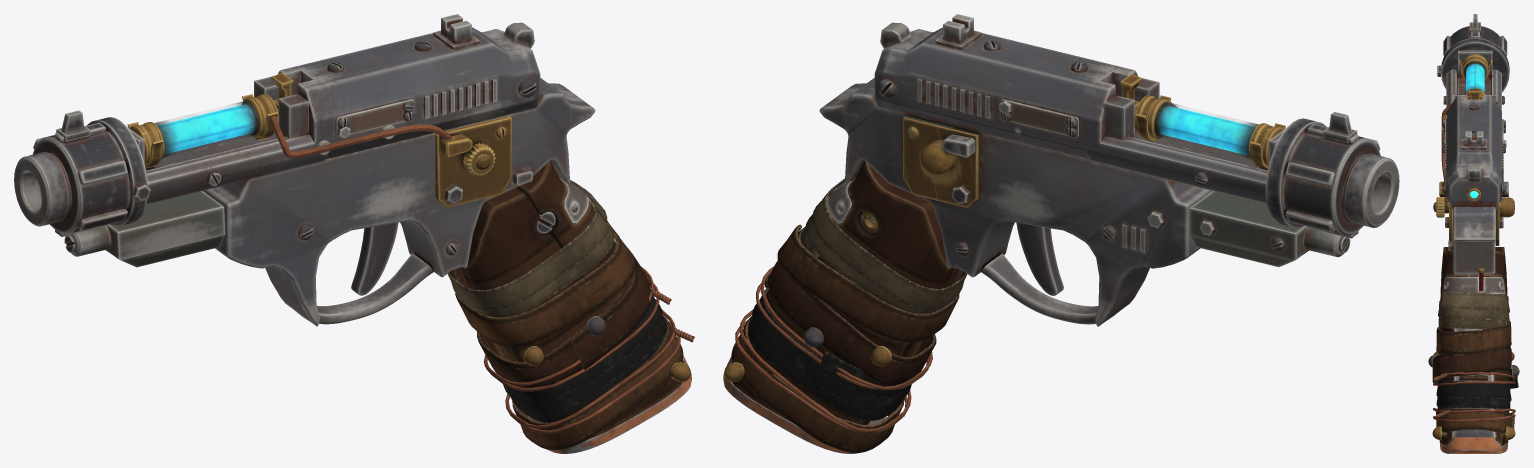
Rendered from pistol_hand.glb.
3 views of the same model, side by side, from view 1: azimuth 30°, elevation 25°; view 2: azimuth 150°, elevation 25°; view 3: azimuth 270°, elevation 25° (orthographic). The views are drawn at different scales.
Parts seen in each view (by area): view 1: ScrapPistol, ScrapPistol_grip_stock, ScrapPistol_cell, ScrapPistol_trigger; view 2: ScrapPistol, ScrapPistol_grip_stock, ScrapPistol_cell, ScrapPistol_trigger; view 3: ScrapPistol, ScrapPistol_grip_stock, ScrapPistol_cell.
Boxes of the visible parts, bbox=[...] form: ScrapPistol: bbox=[14, 14, 595, 326]; ScrapPistol_grip_stock: bbox=[447, 160, 694, 453]; ScrapPistol_cell: bbox=[129, 94, 279, 164]; ScrapPistol_trigger: bbox=[351, 222, 398, 295]; ScrapPistol: bbox=[819, 14, 1399, 326]; ScrapPistol_grip_stock: bbox=[723, 161, 967, 453]; ScrapPistol_cell: bbox=[1134, 95, 1283, 166]; ScrapPistol_trigger: bbox=[1016, 222, 1063, 295]; ScrapPistol: bbox=[1433, 14, 1514, 290]; ScrapPistol_grip_stock: bbox=[1428, 247, 1519, 453]; ScrapPistol_cell: bbox=[1462, 54, 1488, 99].
Bounding box in the file's own units: 1.91 × 1.25 × 0.3682.
4 materials, 3 textured.
